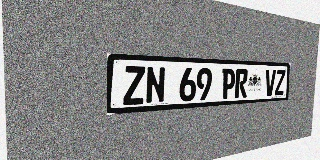6: (179, 67, 197, 102)
9: (196, 68, 212, 101)
N: (145, 66, 166, 104)
P: (221, 68, 236, 99)
R: (235, 69, 248, 98)
V: (264, 70, 276, 96)
Z: (123, 66, 145, 105), (275, 70, 286, 95)
